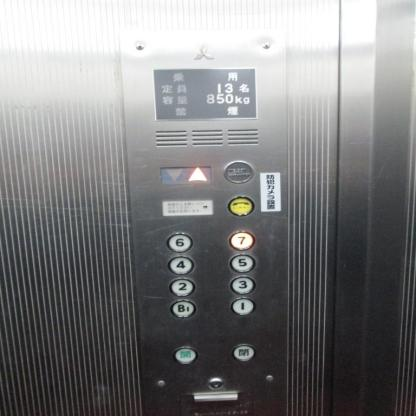1: (228, 296, 257, 316)
2: (167, 276, 196, 298)
3: (228, 274, 257, 296)
4: (166, 254, 194, 276)
5: (226, 252, 258, 274)
6: (165, 231, 194, 254)
7: (226, 229, 257, 251)
B1: (168, 298, 197, 319)
call: (226, 194, 256, 217)
text: (221, 159, 256, 185)
text_close door: (230, 342, 256, 363)
text_open door: (171, 345, 198, 365)
